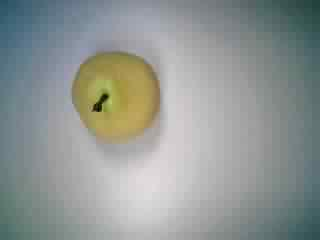pear: (64, 39, 168, 147)
